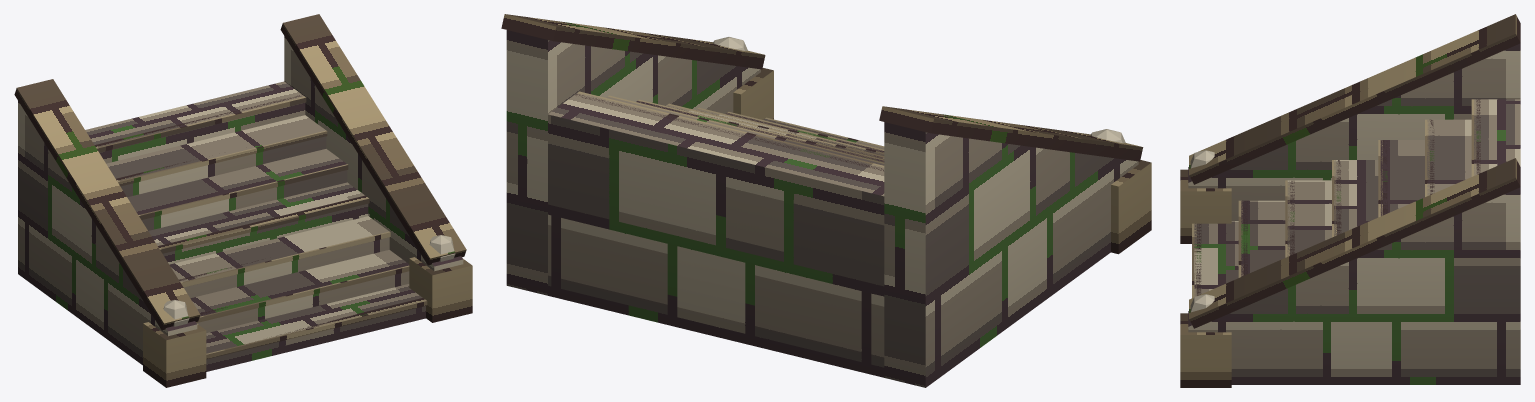
File: scene_stair_stack_ledge.glb
The picture shows the model from 3 angles, left to right: view 1: azimuth 30°, elevation 25°; view 2: azimuth 150°, elevation 25°; view 3: azimuth 270°, elevation 25°; orthographic projection. The views are drawn at different scales.
Visible parts, largest first — view 1: scene_stair_stack_ledge; view 2: scene_stair_stack_ledge; view 3: scene_stair_stack_ledge.
Boxes of the visible parts, <box> form: scene_stair_stack_ledge: <box>14,14,472,387</box>; scene_stair_stack_ledge: <box>501,14,1151,387</box>; scene_stair_stack_ledge: <box>1180,14,1520,387</box>.
Bounding box in the file's own units: 3.36 × 1.98 × 2.92.
2 materials, 1 textured.
